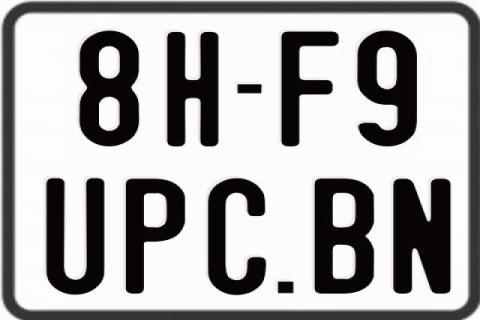0: (77, 28, 141, 145), (354, 30, 417, 146)
B: (314, 177, 373, 297)
C: (206, 179, 266, 299)
F: (279, 30, 337, 146)
H: (164, 30, 215, 146)
N: (393, 179, 456, 297)
P: (125, 176, 185, 293)
U: (44, 178, 104, 294)
